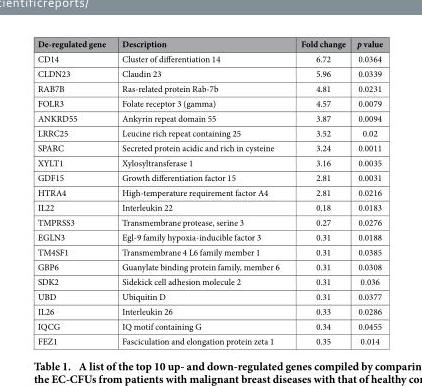table: (36, 37, 382, 346)
table column: (113, 37, 289, 346), (36, 37, 113, 346), (289, 37, 350, 346), (350, 37, 382, 346)
table column header: (36, 37, 382, 50)
table row: (36, 50, 382, 65), (36, 65, 382, 80), (36, 80, 382, 95), (36, 95, 382, 110), (36, 110, 382, 125), (36, 125, 382, 140), (36, 154, 382, 169), (36, 169, 382, 184), (36, 184, 382, 199), (36, 199, 382, 214), (36, 214, 382, 229), (36, 229, 382, 244), (36, 244, 382, 259), (36, 273, 382, 288), (36, 288, 382, 303), (36, 303, 382, 318), (36, 318, 382, 333), (36, 140, 382, 154), (36, 259, 382, 273), (36, 37, 382, 50), (36, 333, 382, 346)
